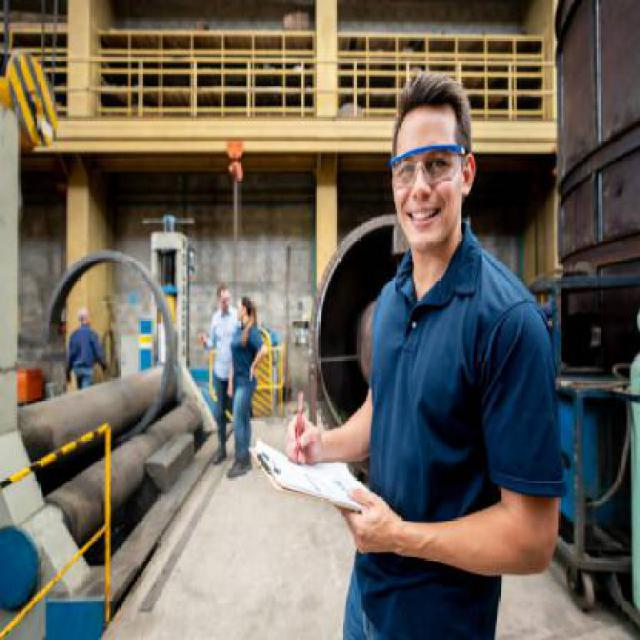glass: (383, 140, 467, 189)
head: (381, 69, 482, 262), (235, 294, 255, 317), (215, 281, 232, 306)
person: (278, 58, 570, 639), (199, 280, 238, 469), (232, 289, 266, 484), (58, 302, 111, 389)
